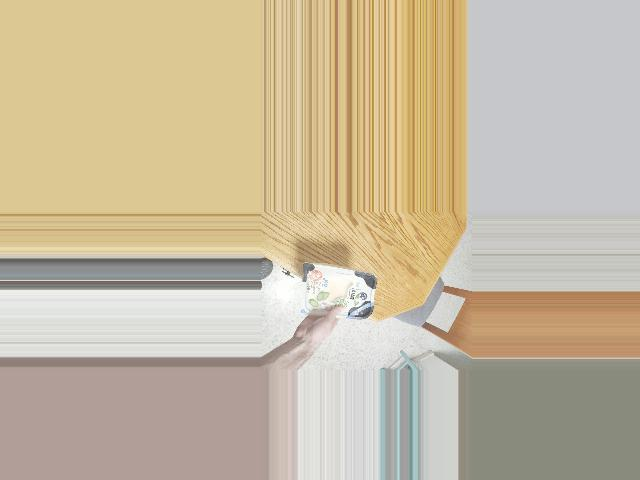cheese: (300, 261, 374, 328)
